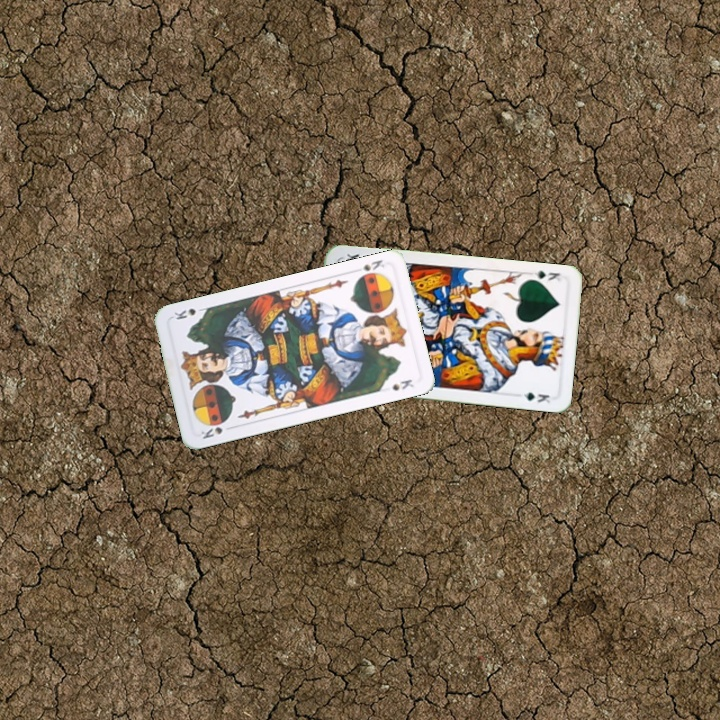GK: (530, 267, 562, 284)
SK: (197, 422, 236, 442), (359, 256, 387, 274)
